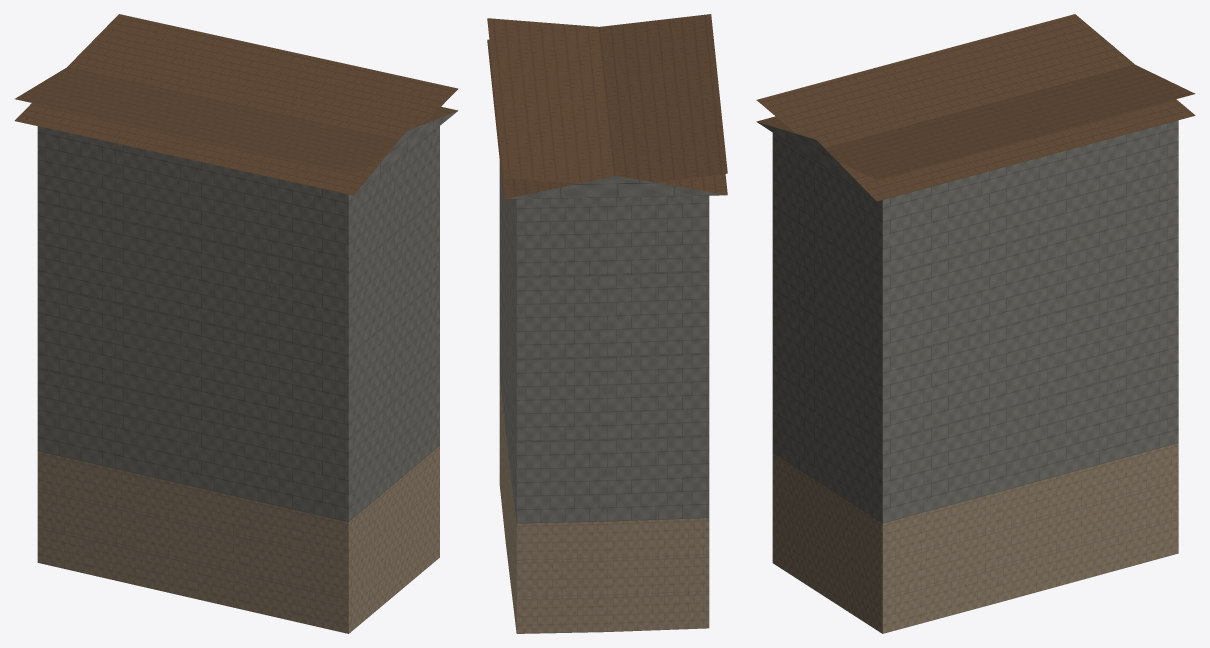
File: bld_c42_47_192.gltf
3 views of the same model, side by side, from view 1: azimuth 30°, elevation 25°; view 2: azimuth 150°, elevation 25°; view 3: azimuth 270°, elevation 25° (orthographic).
Visible parts, largest first — view 1: bld_c42_47_192; view 2: bld_c42_47_192; view 3: bld_c42_47_192.
Boxes of the visible parts, bbox=[...] form: bld_c42_47_192: bbox=[14, 14, 458, 633]; bld_c42_47_192: bbox=[487, 14, 727, 633]; bld_c42_47_192: bbox=[756, 14, 1195, 633].
Bounding box in the file's own units: 16.42 × 21.3 × 18.38.
Materials: 4 (4 with a texture image).
